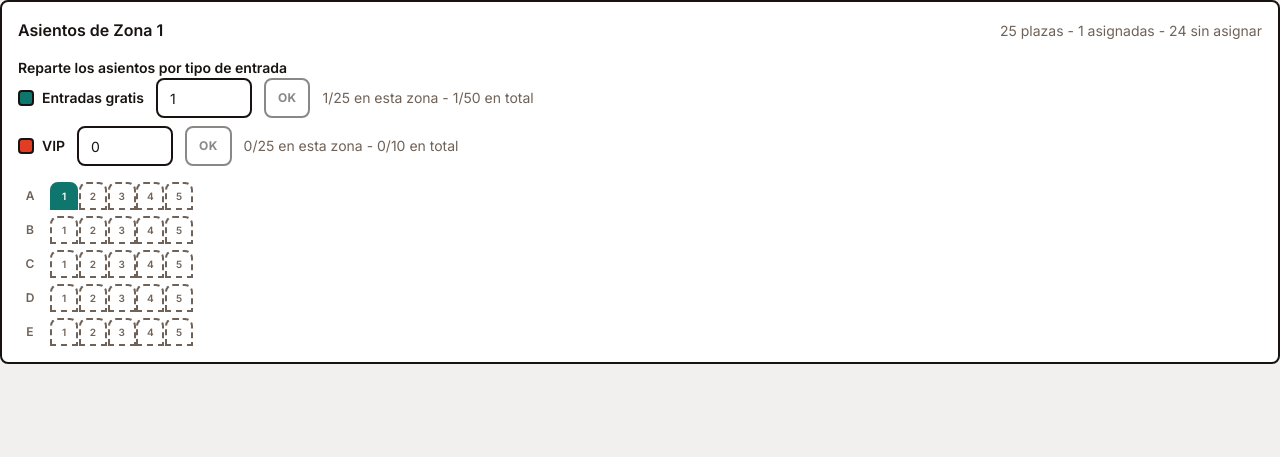
Test case: ZoneSeatEditor › moving a seat › lets the organizer cancel a move without touching the plan
Click the button named "Asiento A1 Entradas gratis": click(64, 196) [50,182,78,210]
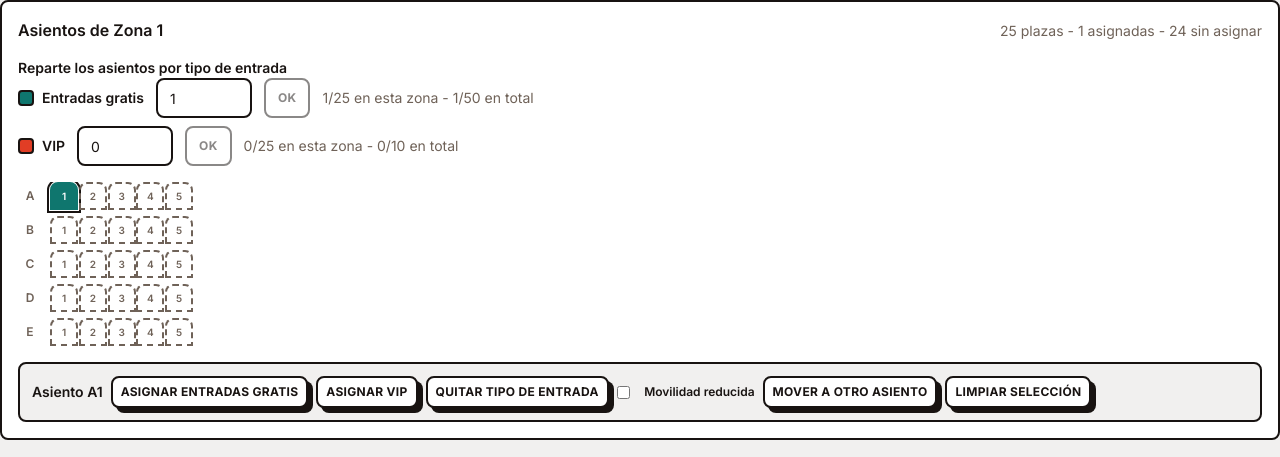
Click the button "Mover a otro asiento": click(850, 392) [763,376,938,408]
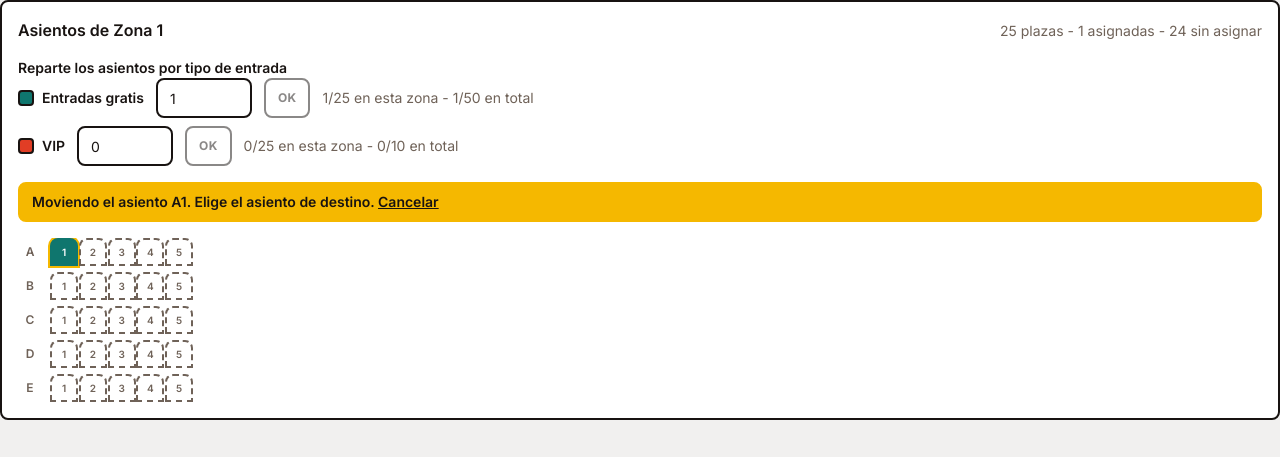
Click the button "Cancelar": click(408, 202) [378,192,439,212]
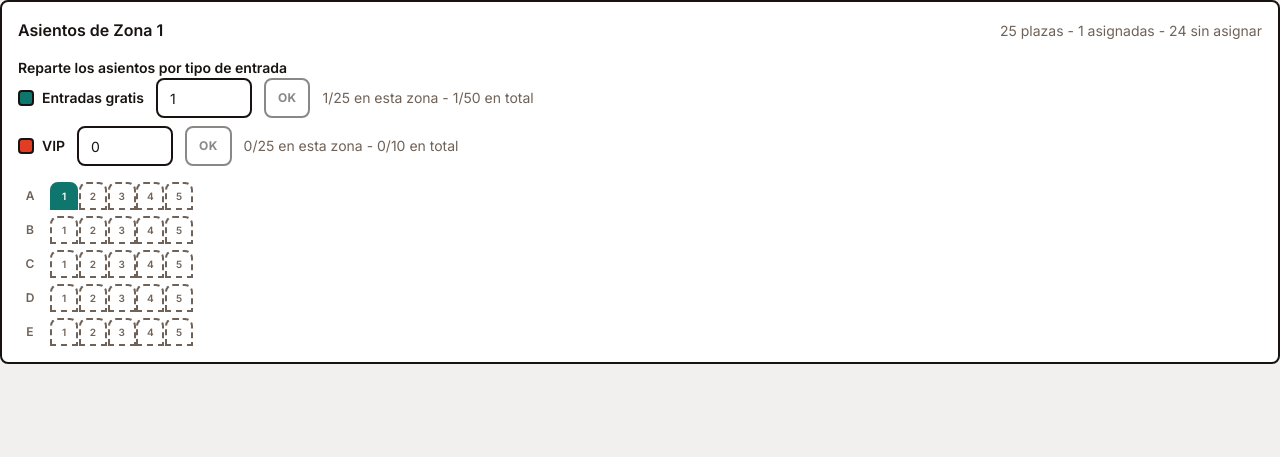
Expected: the button named "Asiento A1 Entradas gratis" is shown, [50,182,78,210]
Now the message "Moviendo el asiento A1. Elige el asiento de destino. Cancelar" is gone
